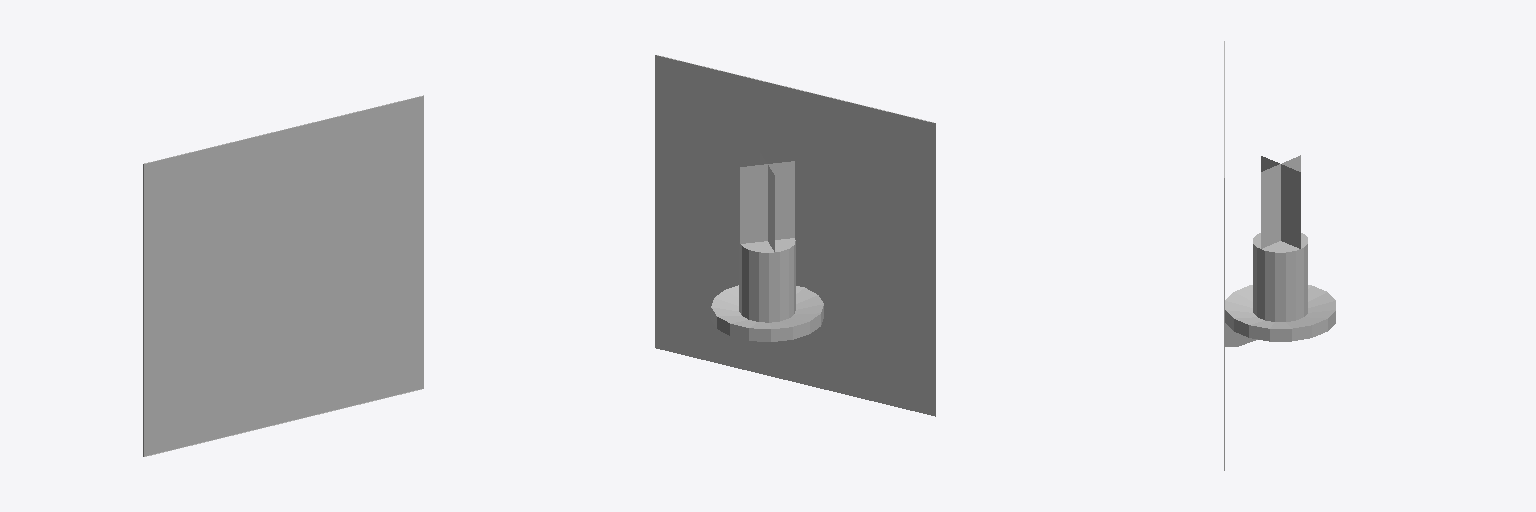
Rendered from homedecor_wall_sconce.obj.
The picture shows the model from 3 angles: view 1: azimuth 30°, elevation 25°; view 2: azimuth 150°, elevation 25°; view 3: azimuth 270°, elevation 25°; orthographic projection.
Visible parts, largest first — view 1: Cylinder; view 2: Cylinder; view 3: Cylinder.
Boxes of the visible parts, box(x1,y1,x2,y2) form: Cylinder: box(143, 95, 423, 456); Cylinder: box(655, 55, 935, 416); Cylinder: box(1224, 41, 1335, 470).
Bounding box in the file's own units: 0.5 × 0.5 × 0.1739.